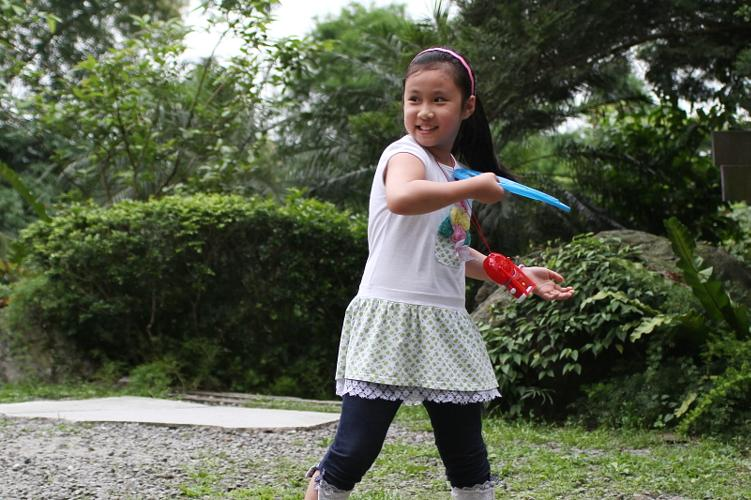person: (302, 50, 577, 500)
